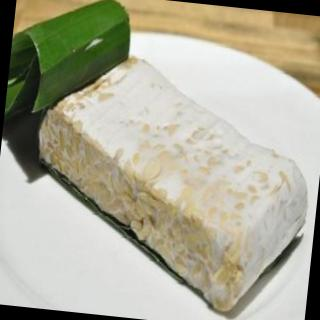Tempe: (20, 45, 320, 320)
